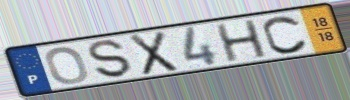4: (181, 25, 221, 68)
C: (261, 14, 311, 55)
H: (213, 18, 271, 64)
O: (43, 46, 91, 86)
S: (86, 38, 135, 79)
X: (127, 29, 181, 78)
